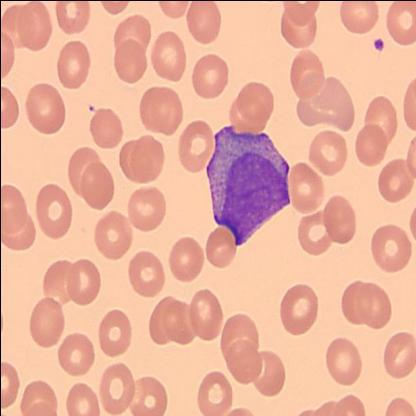Promyelocyte: (206, 124, 292, 248)
